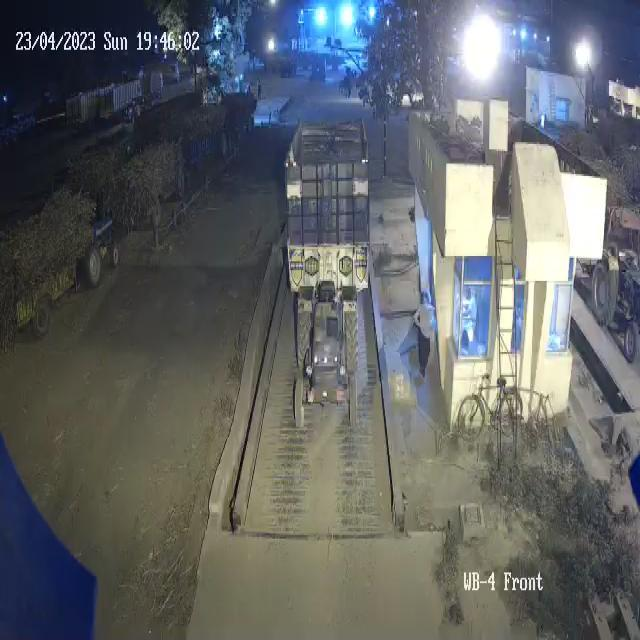Tratores - v5 YOLO V8L 2024-11-13: (291, 285, 364, 438), (85, 200, 122, 283)
